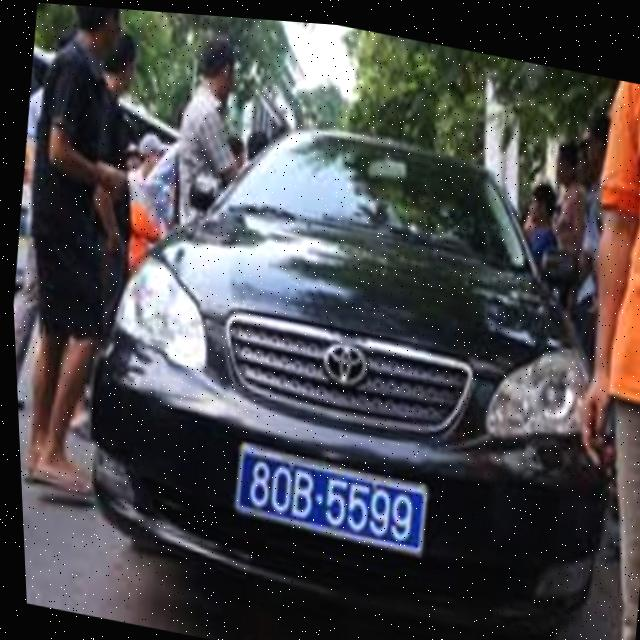car: (64, 83, 640, 640)
plate: (226, 439, 442, 564)
